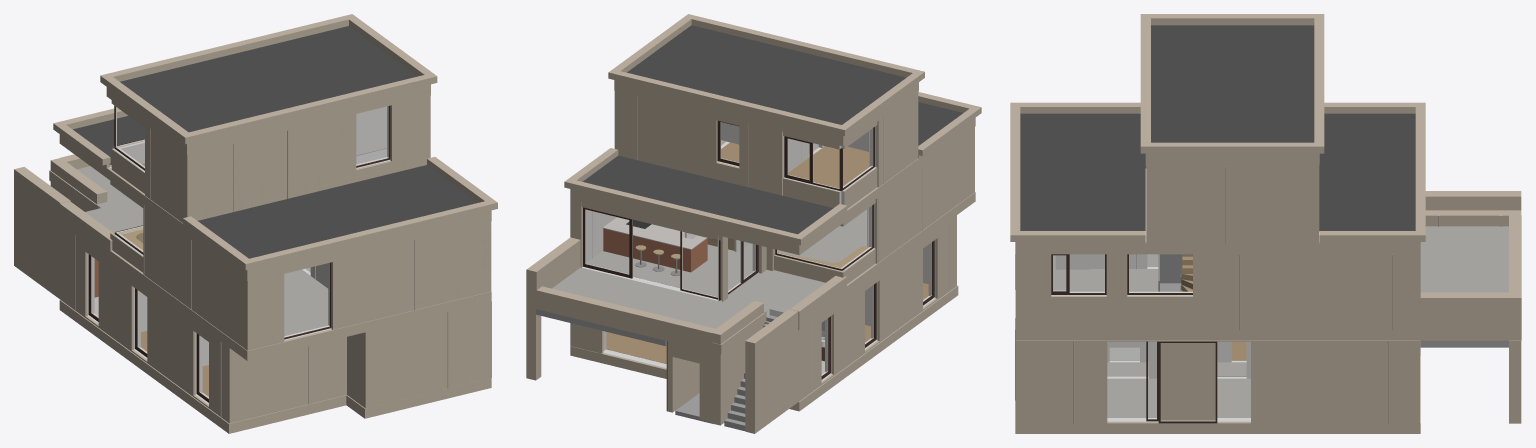
The model's file is house_baked.glb.
The picture shows the model from 3 angles, left to right: view 1: azimuth 30°, elevation 25°; view 2: azimuth 150°, elevation 25°; view 3: azimuth 270°, elevation 25°; orthographic projection. The views are drawn at different scales.
Visible parts, largest first — view 1: brick, roof, plaster, floor_tile, terrace, alu_out, alu_in, ceiling; view 2: brick, roof, terrace, floor_tile, plaster, floor_wood, alu_out, terracotta, concrete, terrazzo, alu_in, ceiling (+1 smaller); view 3: brick, roof, floor_tile, terrace, plaster, alu_out, ceiling, rail, concrete.
Boxes of the visible parts, x1,y1,x2,y2 form: brick: [14, 14, 497, 433]; roof: [73, 26, 478, 258]; plaster: [87, 106, 390, 404]; floor_tile: [284, 148, 387, 335]; terrace: [77, 166, 143, 232]; alu_out: [88, 105, 390, 402]; alu_in: [91, 106, 388, 398]; ceiling: [98, 148, 387, 340]; brick: [526, 14, 981, 433]; roof: [582, 25, 962, 234]; terrace: [552, 267, 825, 328]; floor_tile: [586, 140, 867, 297]; plaster: [586, 122, 935, 381]; floor_wood: [606, 142, 928, 363]; alu_out: [583, 121, 934, 379]; terracotta: [603, 228, 707, 272]; concrete: [536, 309, 777, 430]; terrazzo: [603, 217, 824, 373]; alu_in: [585, 122, 931, 375]; ceiling: [582, 141, 821, 367]; brick: [1010, 14, 1521, 433]; roof: [1020, 25, 1415, 230]; floor_tile: [1053, 254, 1250, 417]; terrace: [1420, 226, 1508, 292]; plaster: [1051, 254, 1250, 378]; alu_out: [1051, 254, 1217, 423]; ceiling: [1107, 168, 1319, 421]; rail: [1158, 254, 1182, 291]; concrete: [1420, 340, 1508, 347].
Bounding box in the file's own units: 9.32 × 9.47 × 15.17.
